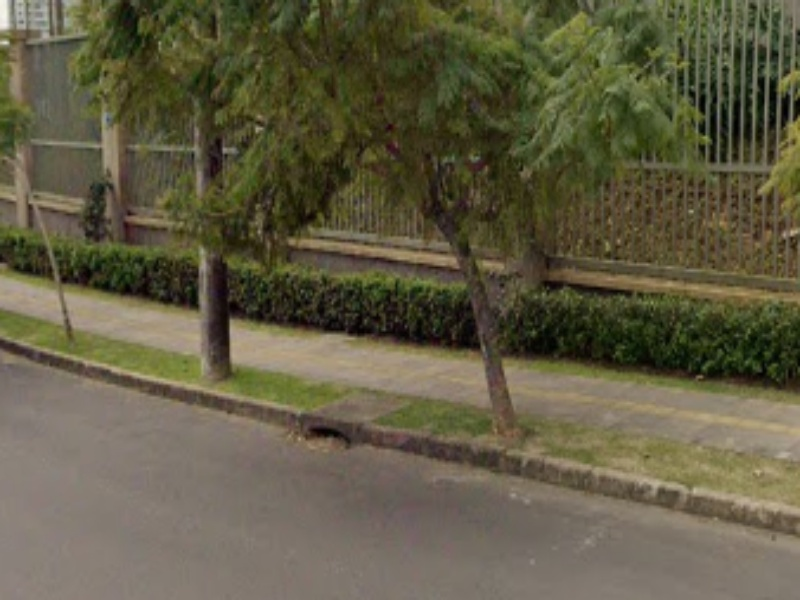v93: (5, 293, 797, 548)
